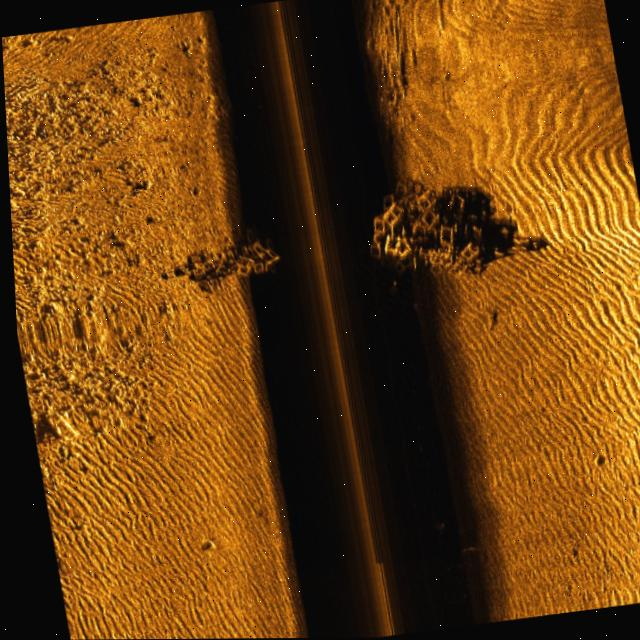artificial reef: (339, 152, 503, 311), (164, 216, 294, 303)
